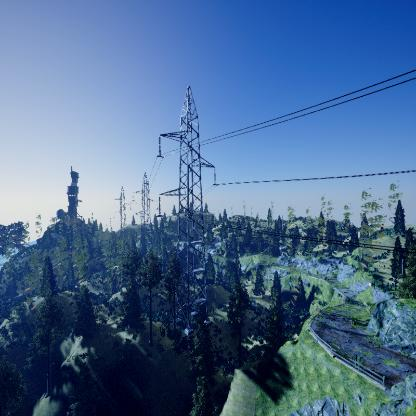tower: (153, 83, 221, 337), (132, 171, 157, 233)
